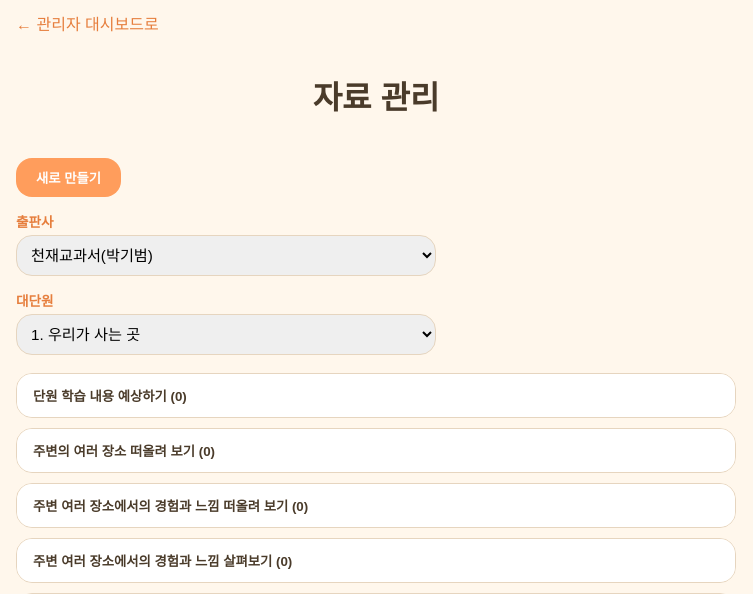
MaterialsAdminPage (전체관리자로 로그인) › 대단원의 학습주제가 아코디언으로 전체 나열되고, 클릭하면 그 학습주제에 등록된 자료가 보인다
The width and height of the screenshot is (753, 594).
expect the button "단원 학습 내용 예상하기 (0)" is shown: met, box [17,374,735,417]
expect the text "갈대밭 전경" is not shown: met
Select "아이스크림미디어(한춘희)" in the dropdown labelled "출판사" at {"x": 226, "y": 255}, box [16,235,436,276]
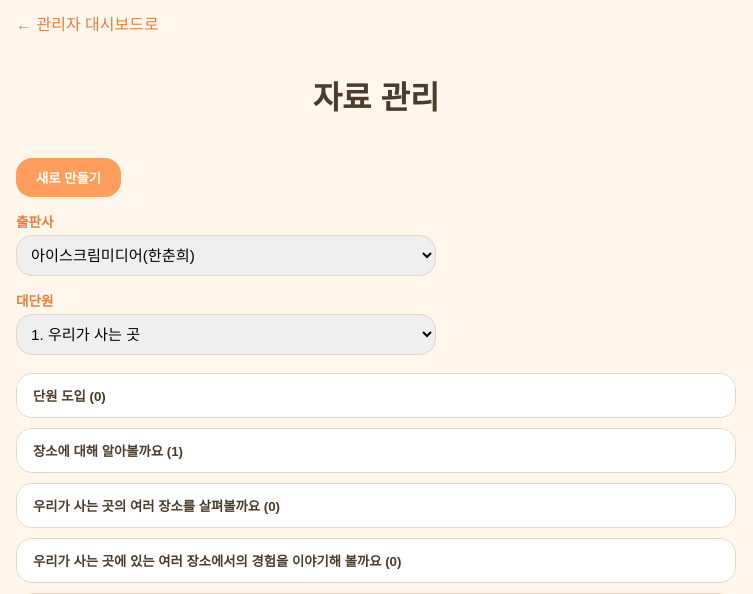
Click the button "장소에 대해 알아볼까요 (1)" at {"x": 98, "y": 451}, box [17,429,735,472]
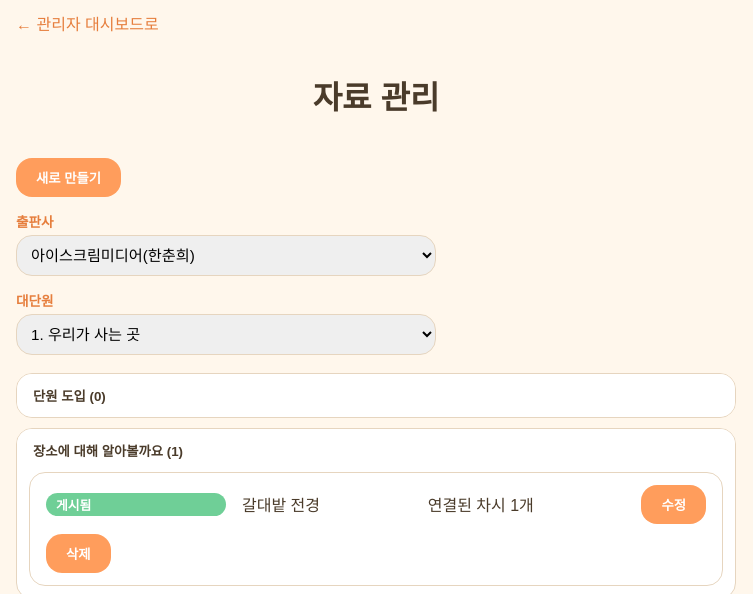
expect the button "장소에 대해 알아볼까요 (1)" is shown: met, box [17,429,735,472]
expect the text "갈대밭 전경" is shown: met, box [242,497,320,514]
expect the text "연결된 차시 1개" is shown: met, box [428,497,534,514]
